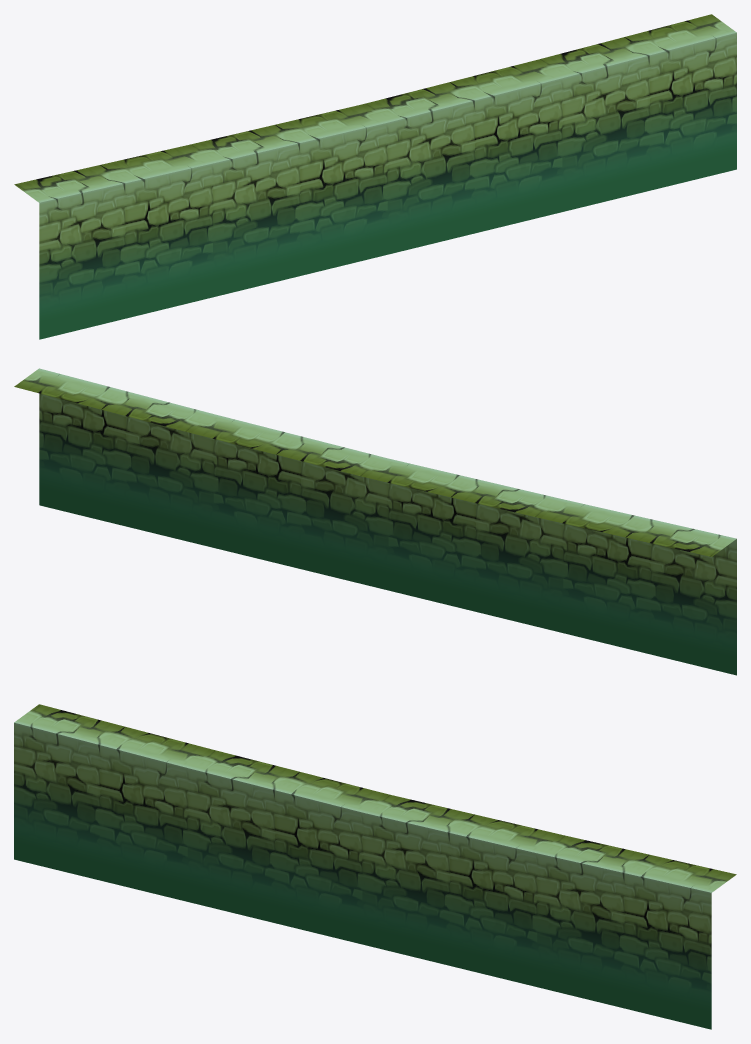
The picture shows the model from 3 angles, top to bottom: view 1: azimuth 30°, elevation 25°; view 2: azimuth 150°, elevation 25°; view 3: azimuth 330°, elevation 25°; orthographic projection.
Parts seen in each view (by area): view 1: Box019; view 2: Box019; view 3: Box019.
Part boxes in pixels (x1,y1,x2,y2): Box019: (14,14,736,339); Box019: (14,368,736,675); Box019: (14,704,736,1029).
Bounding box in the file's own units: 1600 × 100 × 300.
